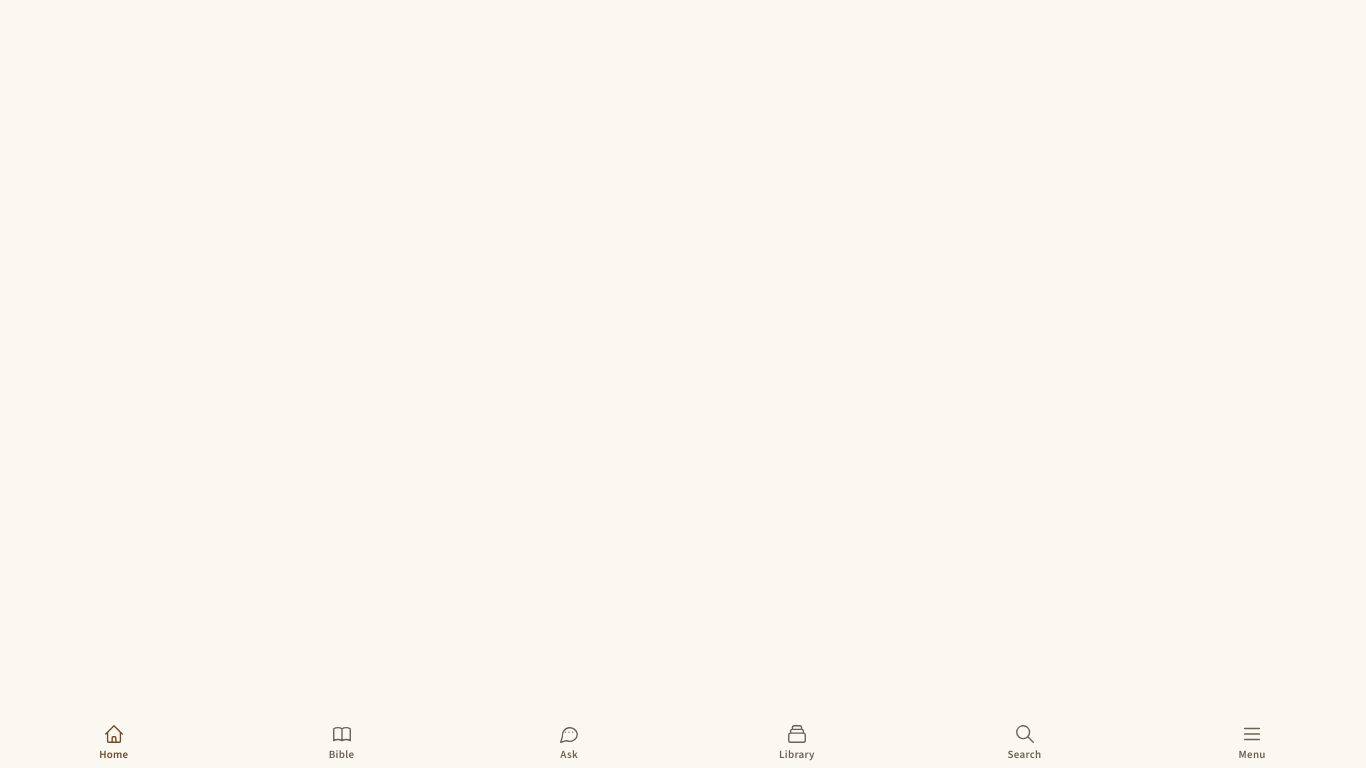
Test: B044 — every control inside the Menu sheet has a name › no control in the sheet is nameless — Sign out included, and visibly labelled
Click the button with aria-label "Open menu" at (1252, 742), box [1138, 716, 1365, 767]
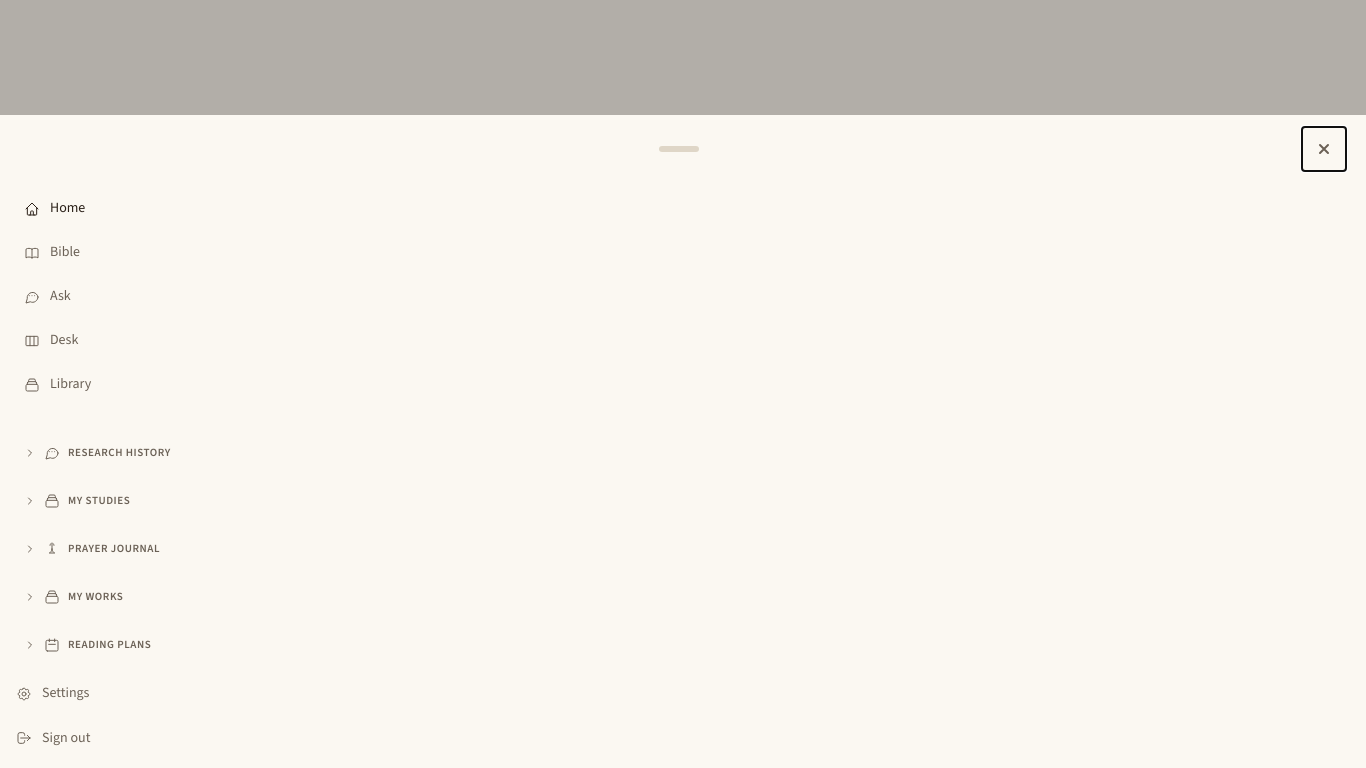
expect the button "Sign out" is shown: met, box [8, 716, 1358, 760]
